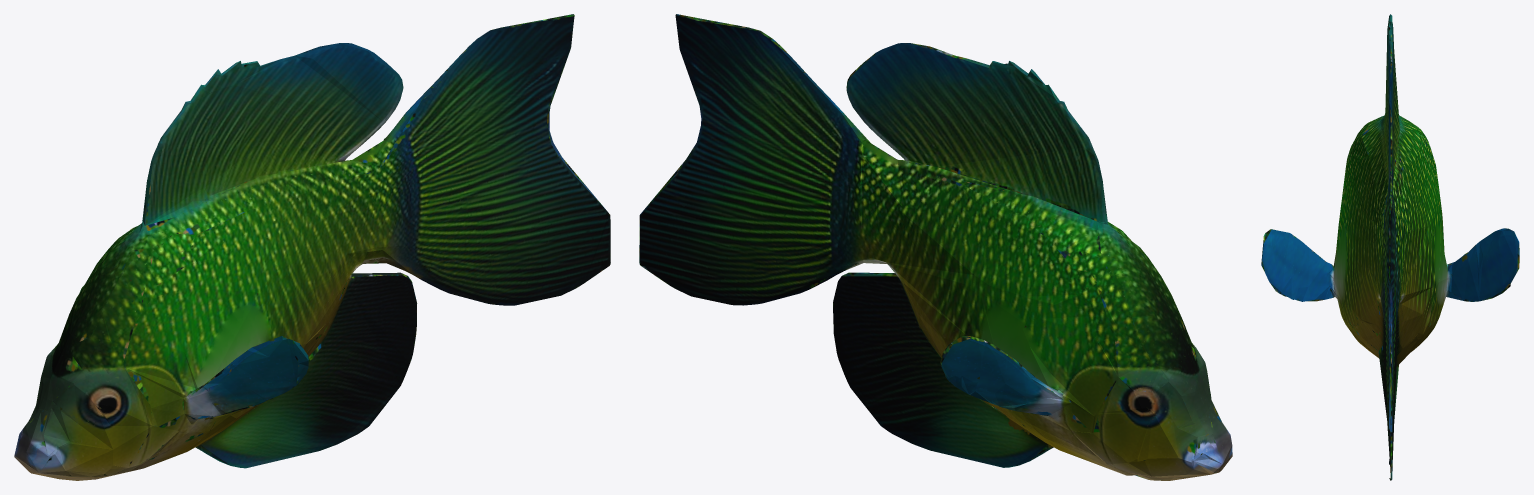
The model's file is fish_0052_smpl23_resized.glb.
3 renders of one model, left to right at view 1: azimuth 30°, elevation 25°; view 2: azimuth 150°, elevation 25°; view 3: azimuth 270°, elevation 25°, orthographic. The views are drawn at different scales.
Parts seen in each view (by area): view 1: world; view 2: world; view 3: world.
Boxes of the visible parts, x1,y1,x2,y2 form: world: (14, 14, 610, 480); world: (639, 14, 1232, 480); world: (1261, 14, 1519, 480).
Bounding box in the file's own units: 1.99 × 1.32 × 0.7802.
1 material, 1 textured.
